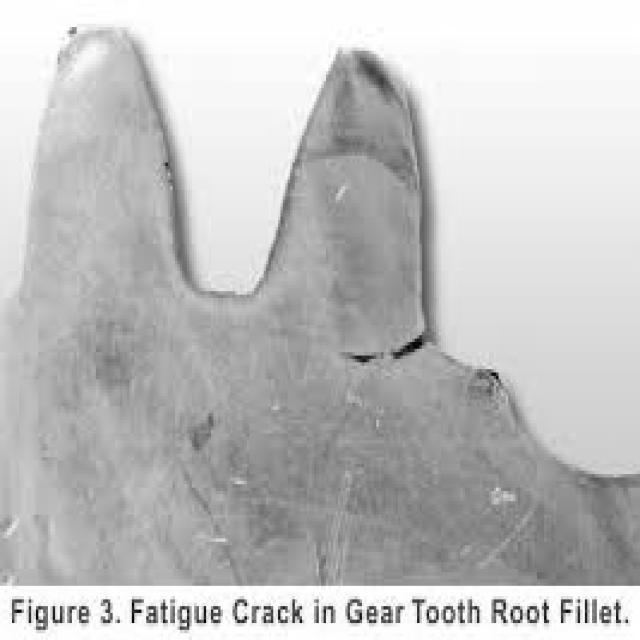Fault-Exist: (21, 27, 622, 566)
